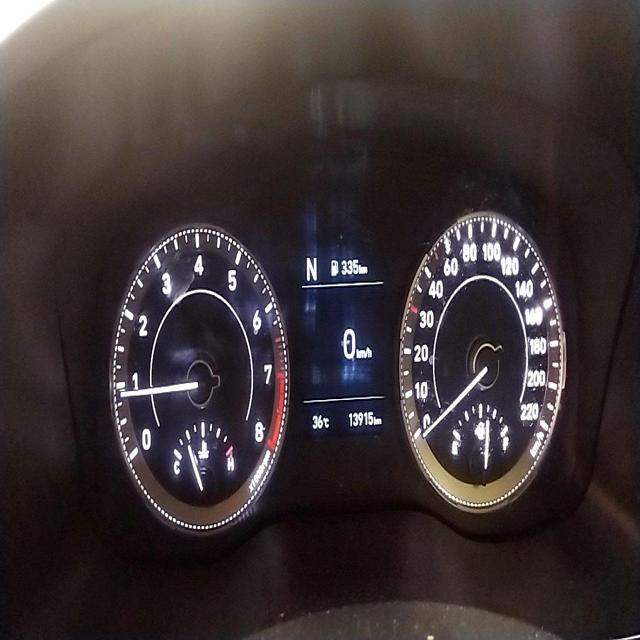odometer: (347, 408, 374, 430)
